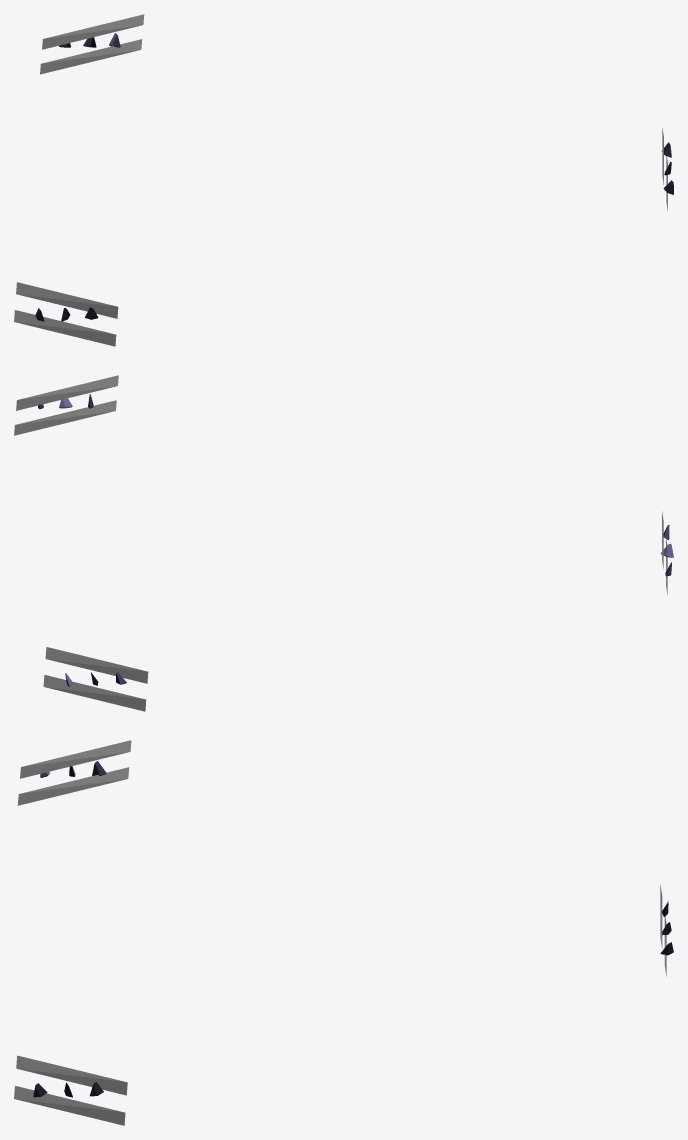
Rendered from vein_rock_a_mined_obsidian.glb.
3 renders of one model, top to bottom at view 1: azimuth 30°, elevation 25°; view 2: azimuth 150°, elevation 25°; view 3: azimuth 270°, elevation 25°, orthographic. The views are drawn at different scales.
Size of the model in its own units: 1.41 by 0.0782 by 1.14.
